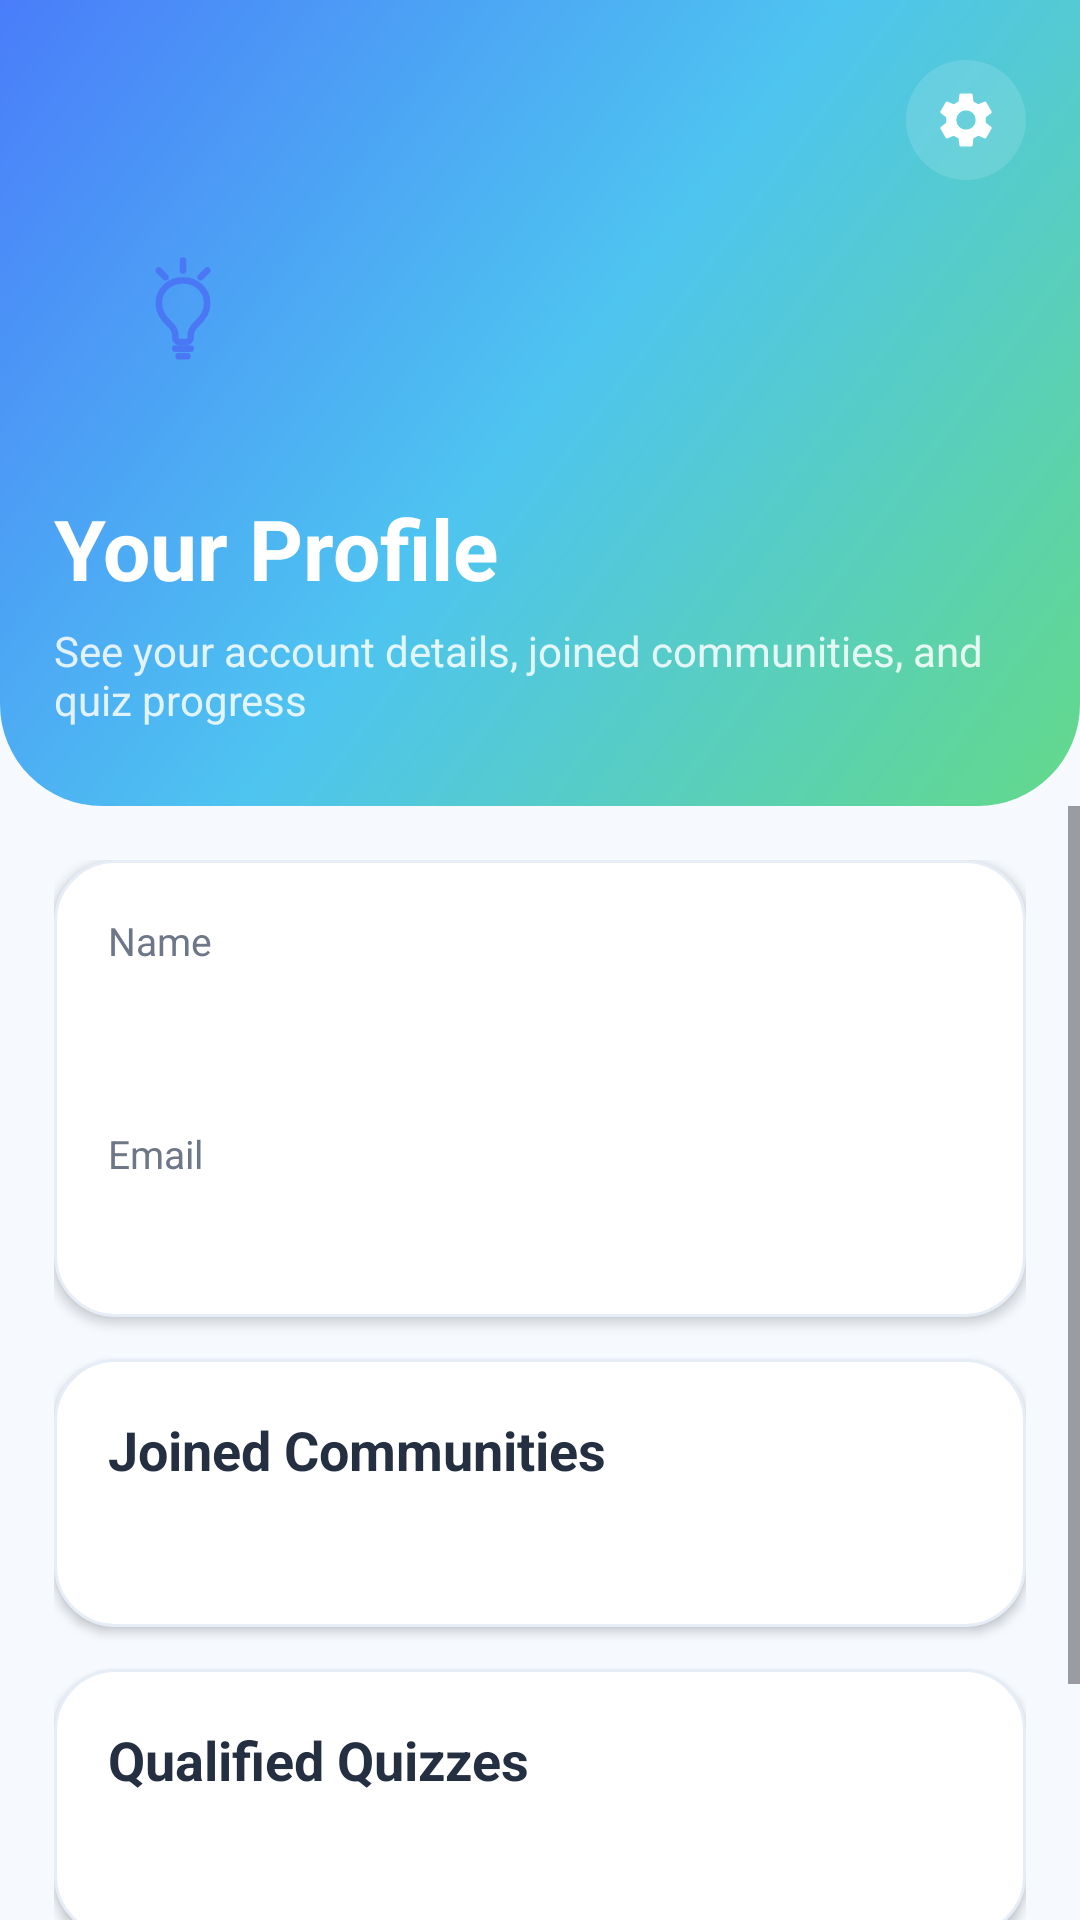

Screen size 1080w x 1920h. Icon name, then its center in pixels as point (x, y):
settings: point (966, 120)
